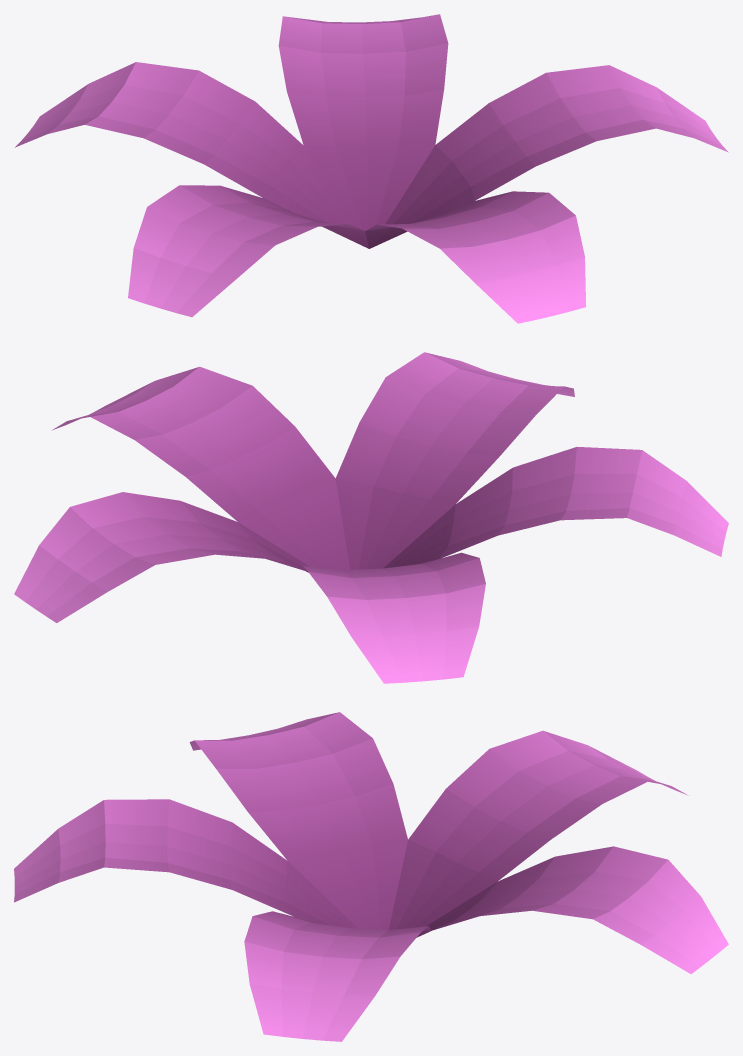
File: SpringBush.fbx
3 views of the same model, one above another, from view 1: azimuth 30°, elevation 25°; view 2: azimuth 150°, elevation 25°; view 3: azimuth 270°, elevation 25° (orthographic). The views are drawn at different scales.
Visible parts, largest first — view 1: SpringBush; view 2: SpringBush; view 3: SpringBush.
Boxes of the visible parts, bbox=[...] form: SpringBush: bbox=[15, 14, 728, 323]; SpringBush: bbox=[14, 352, 728, 683]; SpringBush: bbox=[14, 712, 728, 1041].
Bounding box in the file's own units: 343 × 62.59 × 339.
